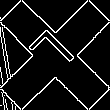L_SE: (26, 26, 84, 84)
